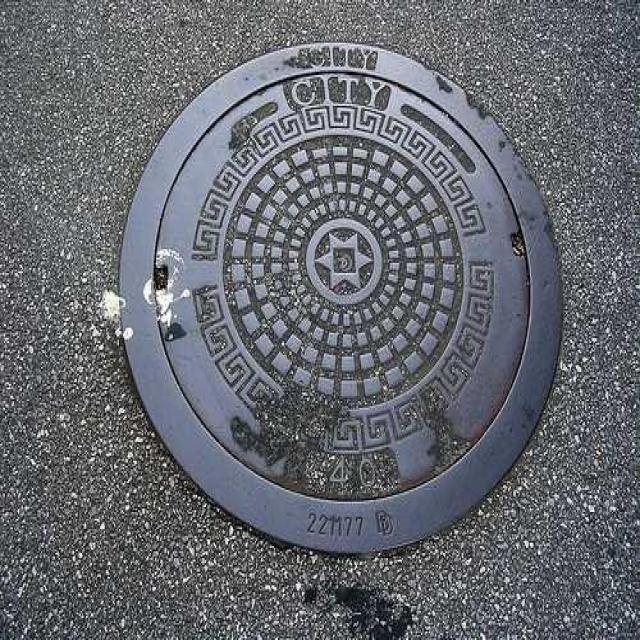manhole: (116, 43, 561, 552)
